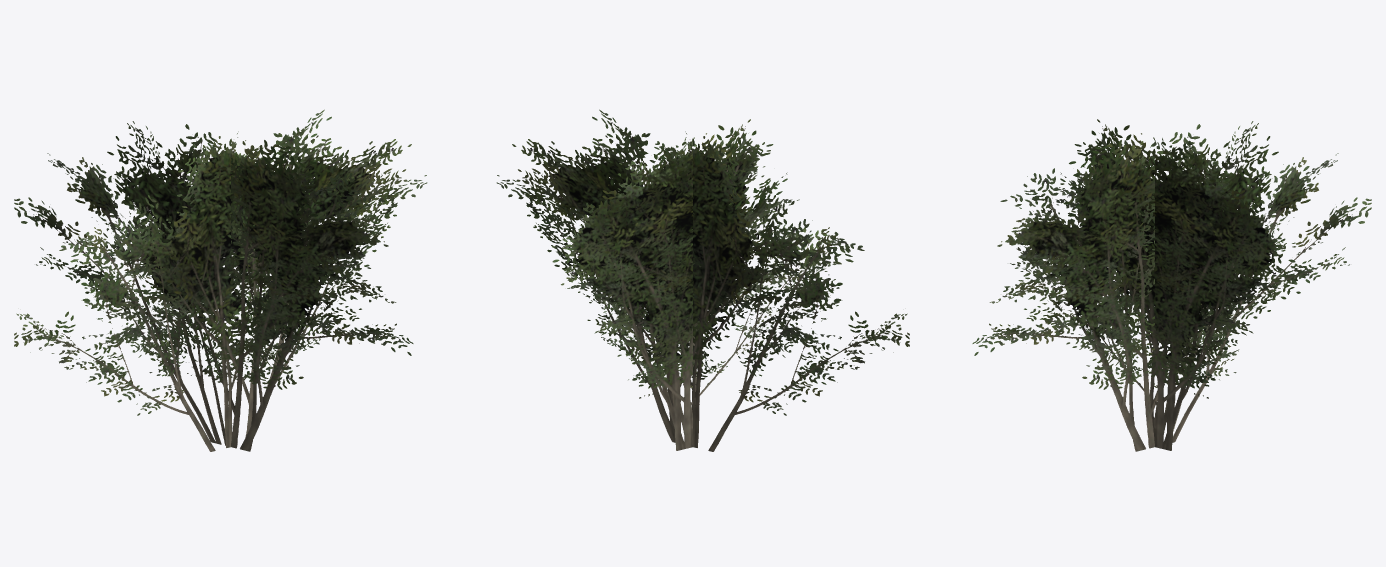
Rendered from bez_cerny_3_daleko.glb.
3 renders of one model, left to right at view 1: azimuth 30°, elevation 25°; view 2: azimuth 150°, elevation 25°; view 3: azimuth 270°, elevation 25°, orthographic.
Visible parts, largest first — view 1: bez_cerny_3_daleko; view 2: bez_cerny_3_daleko; view 3: bez_cerny_3_daleko.
Part boxes in pixels (bbox=[...]): bez_cerny_3_daleko: bbox=[14, 109, 427, 451]; bez_cerny_3_daleko: bbox=[496, 109, 909, 451]; bez_cerny_3_daleko: bbox=[972, 119, 1371, 451].
Size of the model in its own units: 5.28 by 3.81 by 4.57.
Materials: 3 (3 with a texture image).
